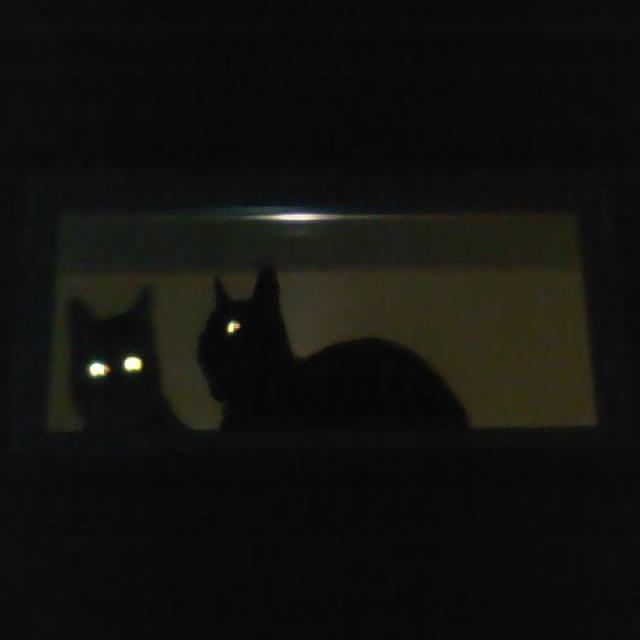Cat: (190, 231, 501, 472), (29, 276, 189, 457)
